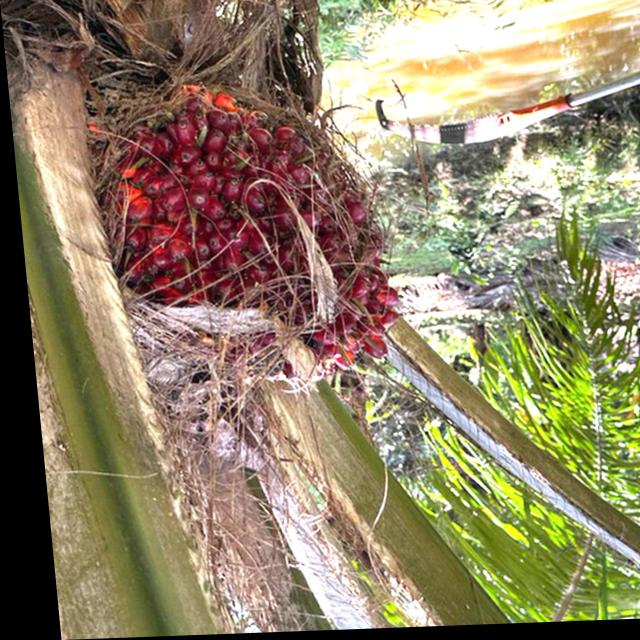ripe: (87, 86, 400, 397)
